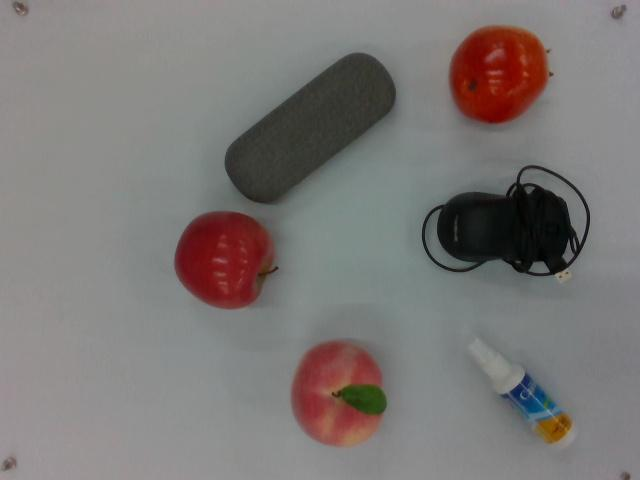apple: (172, 209, 281, 313)
detergent: (462, 331, 580, 455)
glassescase: (226, 47, 399, 216)
mouse: (422, 159, 596, 287)
peach: (291, 334, 387, 449)
pomegranate: (446, 21, 557, 131)
